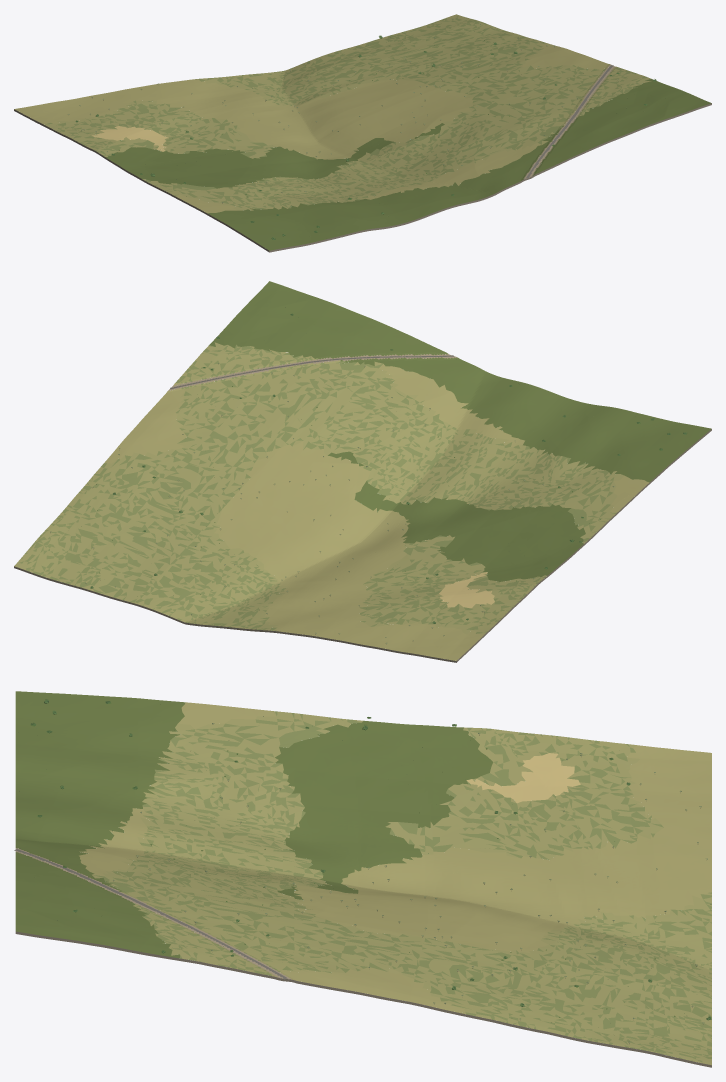
The model's file is parca_+5_+1-yakin.glb.
3 views of the same model, one above another, from view 1: azimuth 30°, elevation 25°; view 2: azimuth 150°, elevation 25°; view 3: azimuth 270°, elevation 25° (orthographic). The views are drawn at different scales.
Visible parts, largest first — view 1: parca_+5_+1_arazi, parca_+5_+1_bitkiler; view 2: parca_+5_+1_arazi, parca_+5_+1_bitkiler; view 3: parca_+5_+1_arazi, parca_+5_+1_bitkiler, parca_+5_+1_yollar.
Part boxes in pixels (x1,y1,x2,y2): parca_+5_+1_arazi: (14, 14, 711, 252); parca_+5_+1_bitkiler: (68, 24, 665, 239); parca_+5_+1_arazi: (14, 281, 711, 662); parca_+5_+1_bitkiler: (50, 307, 686, 644); parca_+5_+1_arazi: (15, 691, 711, 1067); parca_+5_+1_bitkiler: (18, 699, 711, 1043); parca_+5_+1_yollar: (14, 849, 287, 979).
Bounding box in the file's own units: 1002 × 247 × 1002.
